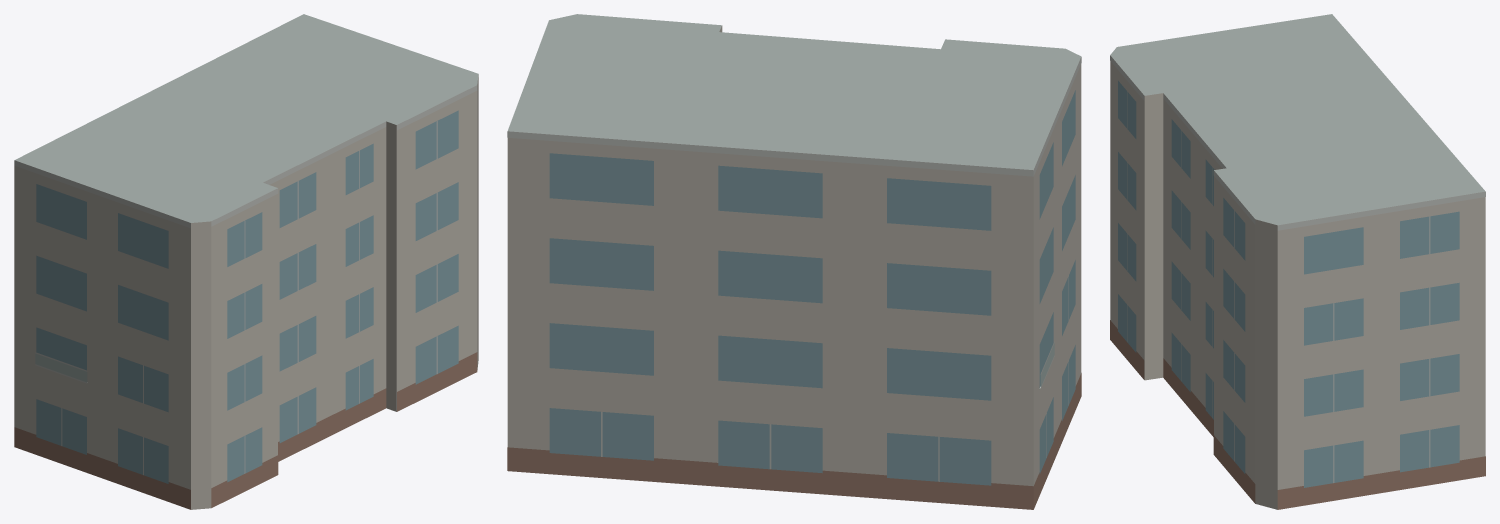
The model's file is survey-upis-32915150.glb.
The picture shows the model from 3 angles, left to right: view 1: azimuth 30°, elevation 25°; view 2: azimuth 150°, elevation 25°; view 3: azimuth 270°, elevation 25°; orthographic projection. The views are drawn at different scales.
Parts seen in each view (by area): view 1: survey-upis-32915150.tmp; view 2: survey-upis-32915150.tmp; view 3: survey-upis-32915150.tmp.
Boxes of the visible parts, x1,y1,x2,y2 form: survey-upis-32915150.tmp: (14, 14, 478, 509); survey-upis-32915150.tmp: (507, 14, 1081, 509); survey-upis-32915150.tmp: (1110, 14, 1485, 509).
Size of the model in its own units: 20.4 by 12.8 by 15.32.
